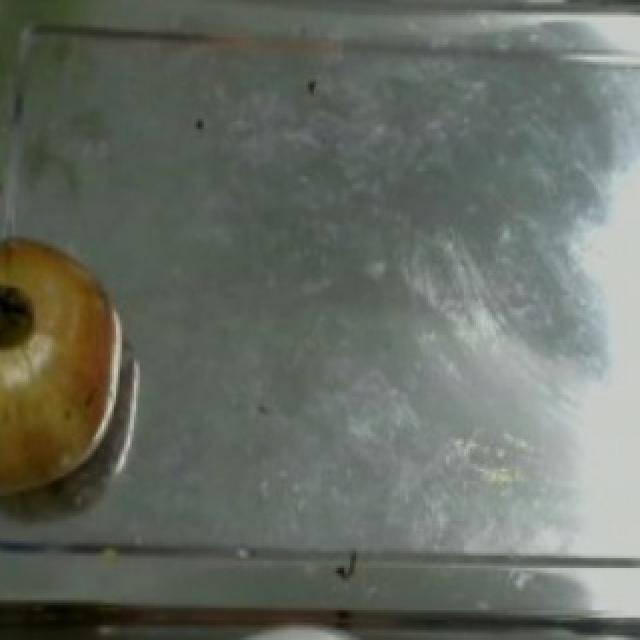fruit: (0, 223, 148, 521)
